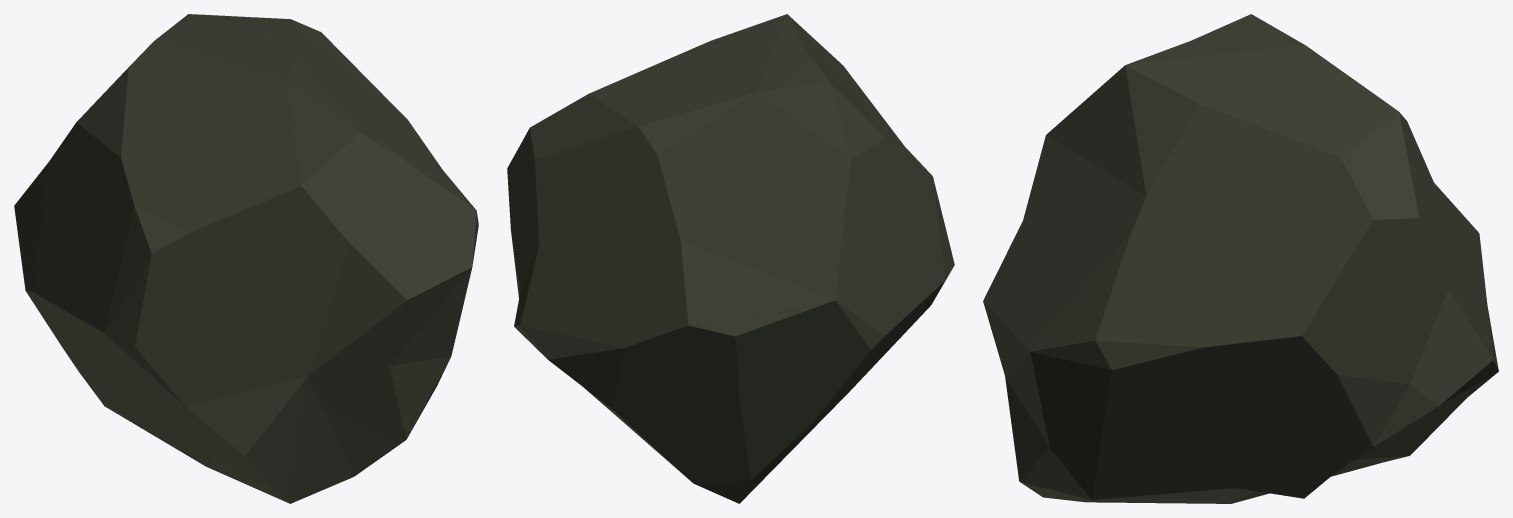
File: Rock2.glb
The picture shows the model from 3 angles, left to right: view 1: azimuth 30°, elevation 25°; view 2: azimuth 150°, elevation 25°; view 3: azimuth 270°, elevation 25°; orthographic projection. The views are drawn at different scales.
Parts seen in each view (by area): view 1: Rock2; view 2: Rock2; view 3: Rock2.
Part boxes in pixels (x1,y1,x2,y2): Rock2: (14, 14, 478, 503); Rock2: (507, 14, 954, 503); Rock2: (983, 14, 1498, 503).
Bounding box in the file's own units: 0.7176 × 0.748 × 0.7666.
1 material, 1 textured.
